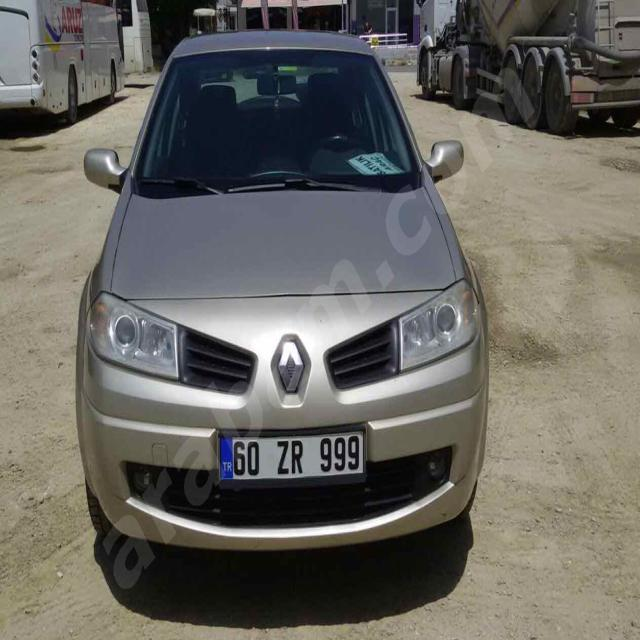license_plate: (219, 429, 365, 480)
